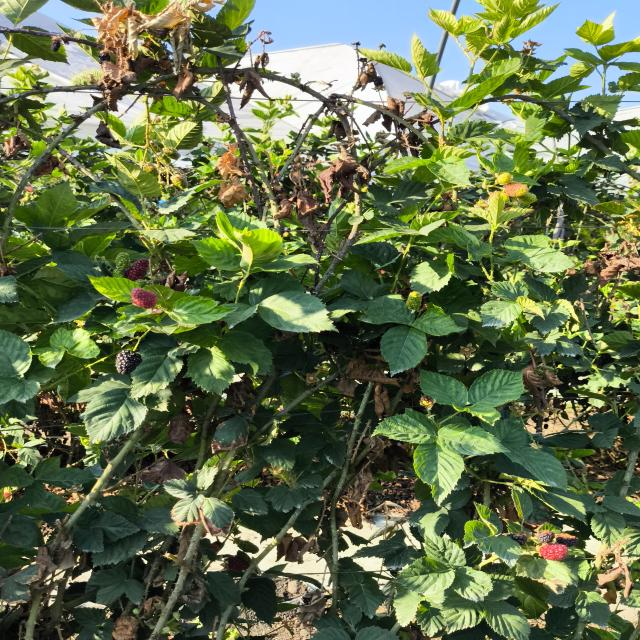maduro: (115, 350, 142, 374)
marron: (125, 259, 149, 280)
naranja: (131, 287, 157, 309), (539, 543, 568, 560)
verde: (504, 183, 528, 198), (406, 291, 421, 310), (114, 252, 130, 269), (517, 193, 537, 206), (496, 172, 513, 185)
